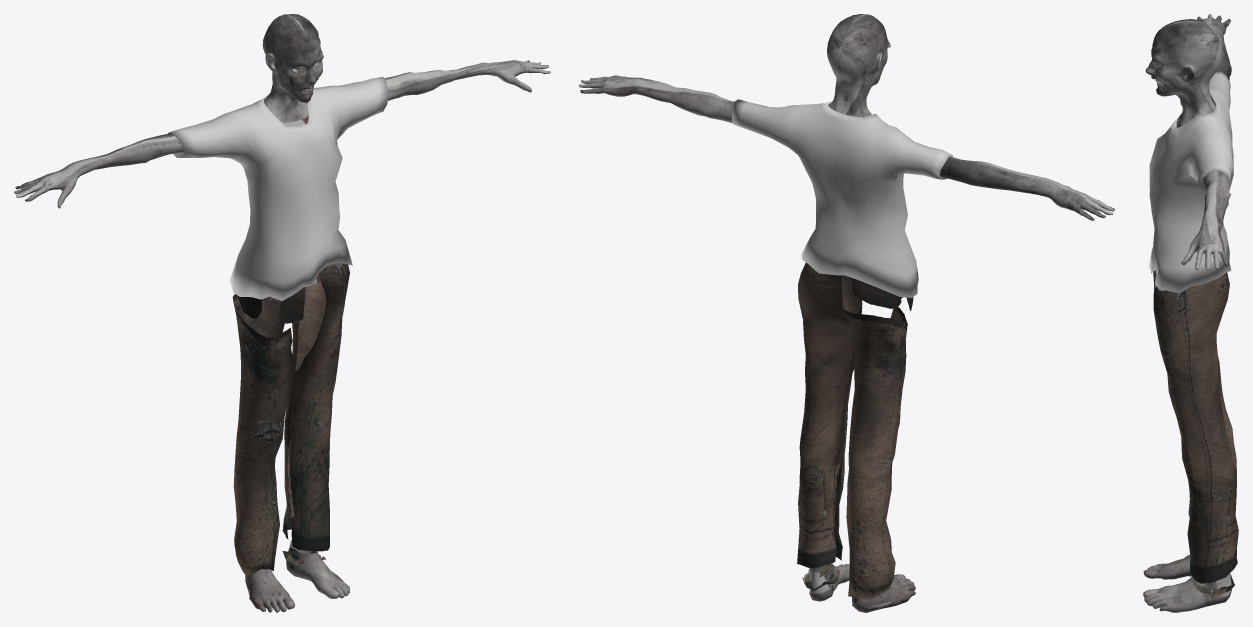
File: zumbie female.obj
The picture shows the model from 3 angles, left to right: view 1: azimuth 30°, elevation 25°; view 2: azimuth 150°, elevation 25°; view 3: azimuth 270°, elevation 25°; orthographic projection.
Visible parts, largest first — view 1: Bottoms, Tops, Body; view 2: Bottoms, Tops, Body; view 3: Bottoms, Tops, Body.
Part boxes in pixels (x1=…): Bottoms: x1=232, y1=263, x2=349, y2=575; Tops: x1=168, y1=76, x2=388, y2=300; Body: x1=14, y1=14, x2=550, y2=612; Bottoms: x1=797, y1=262, x2=913, y2=599; Tops: x1=732, y1=99, x2=952, y2=297; Body: x1=579, y1=14, x2=1114, y2=612; Bottoms: x1=1153, y1=270, x2=1238, y2=597; Tops: x1=1149, y1=70, x2=1233, y2=293; Body: x1=1143, y1=14, x2=1231, y2=612.
Bounding box in the file's own units: 167 × 173 × 26.33.
